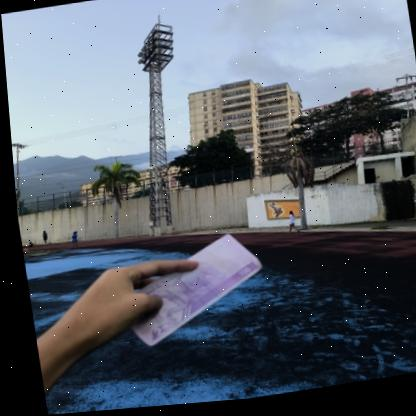one_hundred-back-vef: (112, 232, 267, 352)
